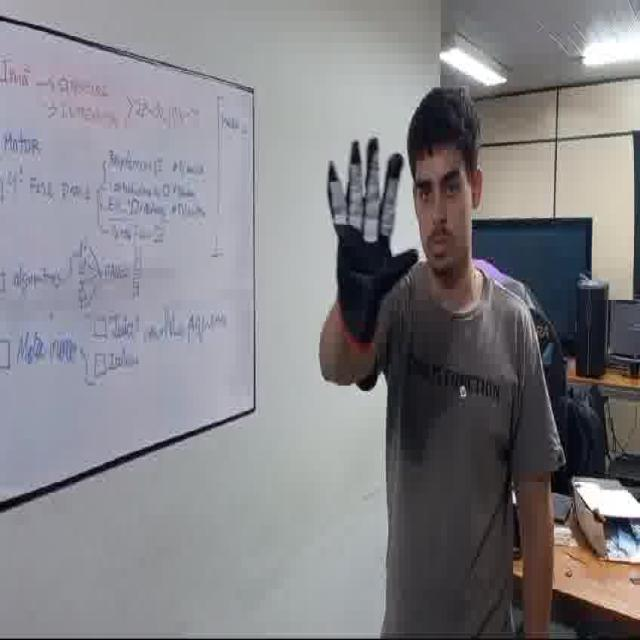Gloves: (326, 137, 419, 350)
